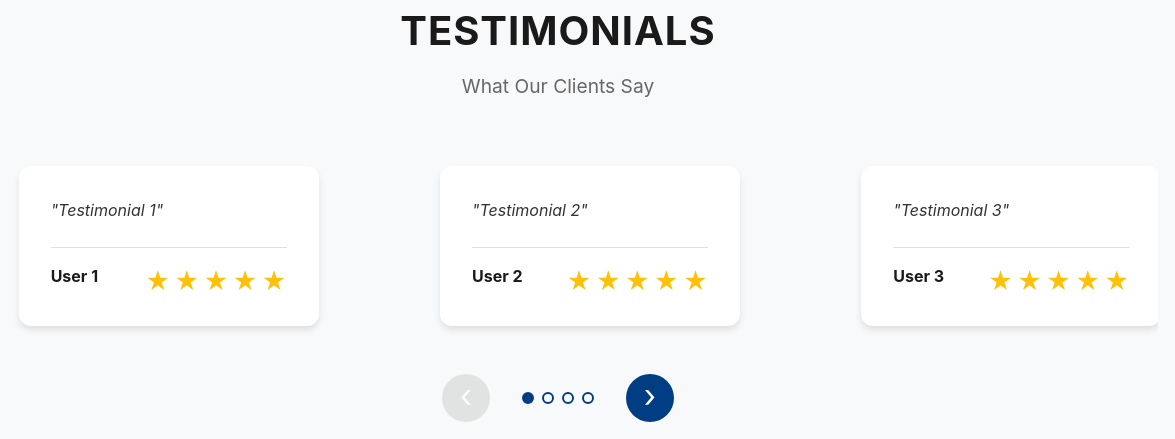
Testimonials_Section › navigation controls work correctly in slider layout
Expected: the button named "Previous testimonial" is disabled, left=442, top=374, right=490, bottom=422
# Click next button
Click the button named "Next testimonial" at (650, 398), box left=626, top=374, right=674, bottom=422
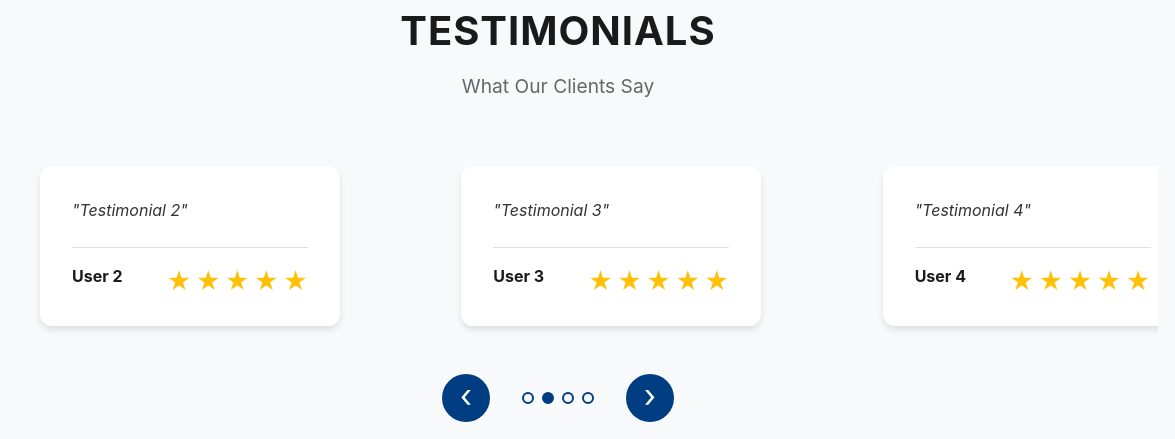
Now the button named "Previous testimonial" is enabled, box left=442, top=374, right=490, bottom=422
